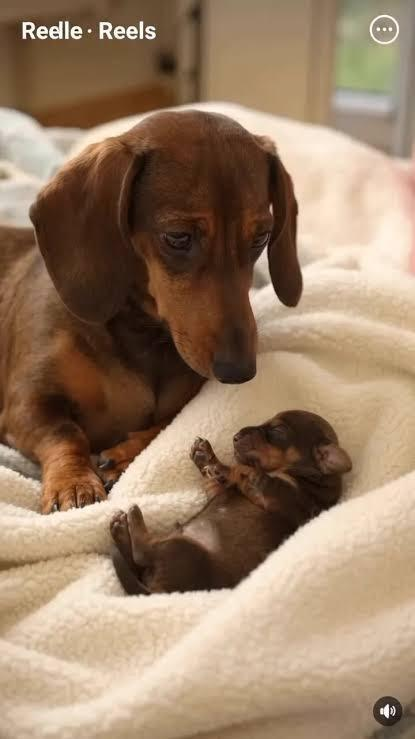adult_dog: (0, 104, 305, 514)
puppy-dog: (108, 409, 353, 597)
